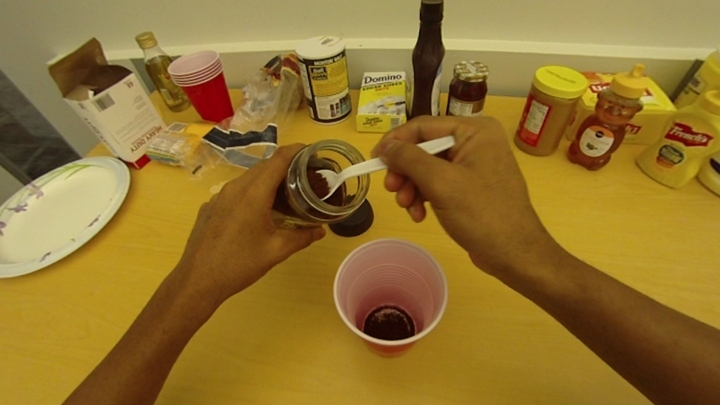hand: (368, 111, 543, 255), (180, 140, 333, 287)
